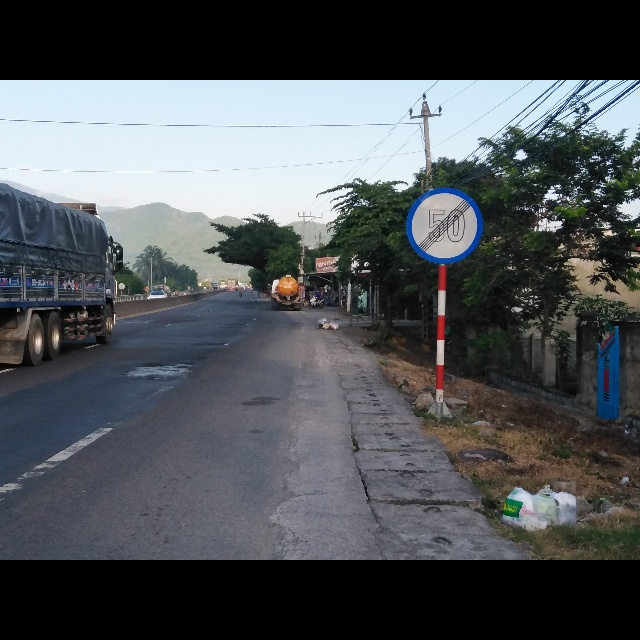Hết hạn chế tốc độ tối đa 50km/h: (405, 187, 484, 267)
